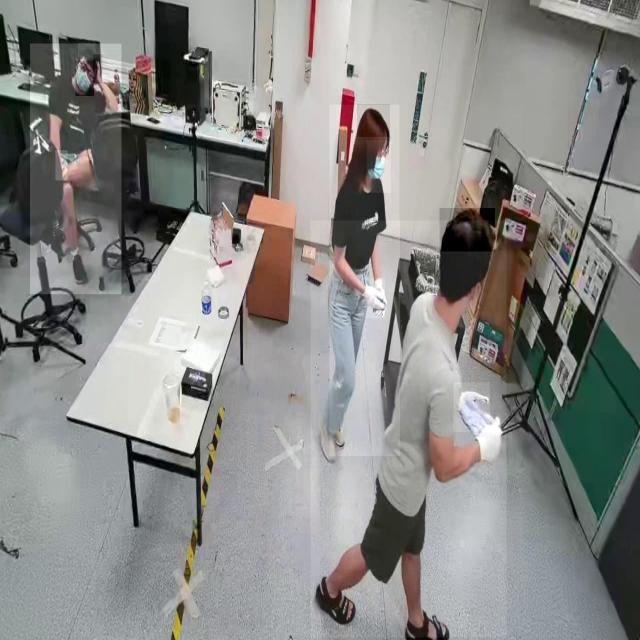face_mask: (367, 140, 391, 193), (76, 60, 94, 97)
hand_glove: (454, 382, 490, 432), (473, 419, 507, 465), (358, 278, 385, 318)
hand_noglove: (56, 150, 68, 182), (93, 54, 103, 84)
head_nohelmet: (440, 208, 496, 252), (357, 104, 391, 138), (78, 42, 96, 58)
person: (311, 221, 507, 638), (330, 105, 400, 456), (30, 44, 122, 295)
shoes: (316, 407, 340, 464), (69, 243, 89, 285)
